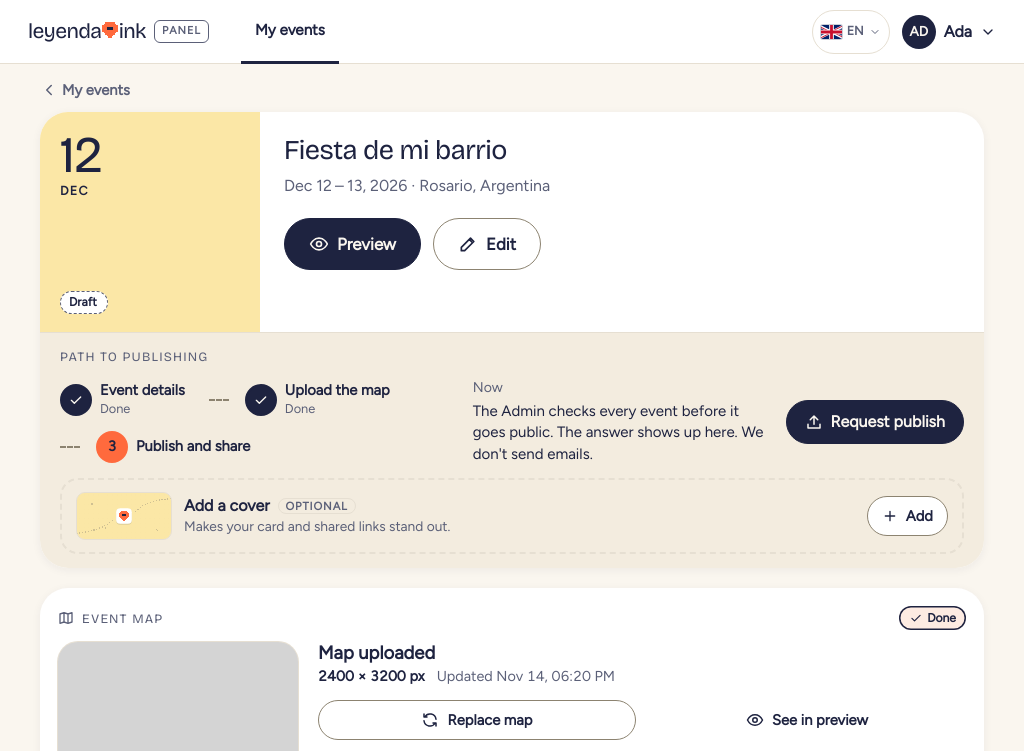
Test case: organizer publish step › requests publish, shows In review and the event can be withdrawn back to Draft
Click the button "Request publish".
click(875, 422)  # box left=786, top=400, right=964, bottom=444
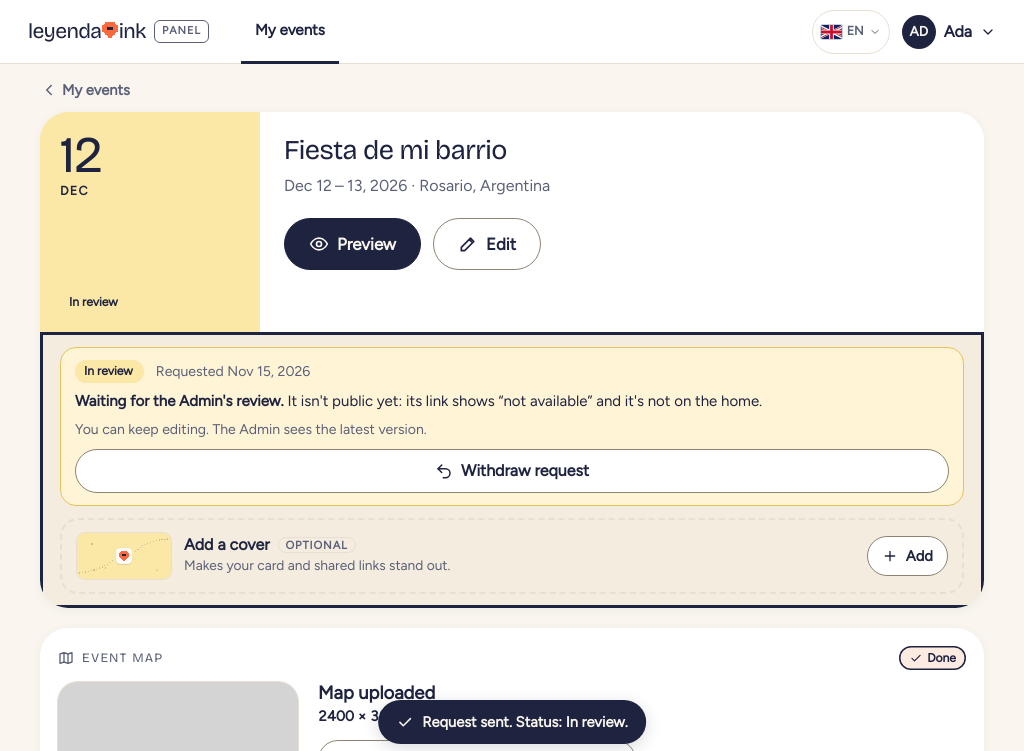
Now the text "Waiting for the Admin's review." is shown, box left=75, top=392, right=284, bottom=410
Click the button "Withdraw request".
click(512, 471)  # box left=75, top=449, right=949, bottom=493
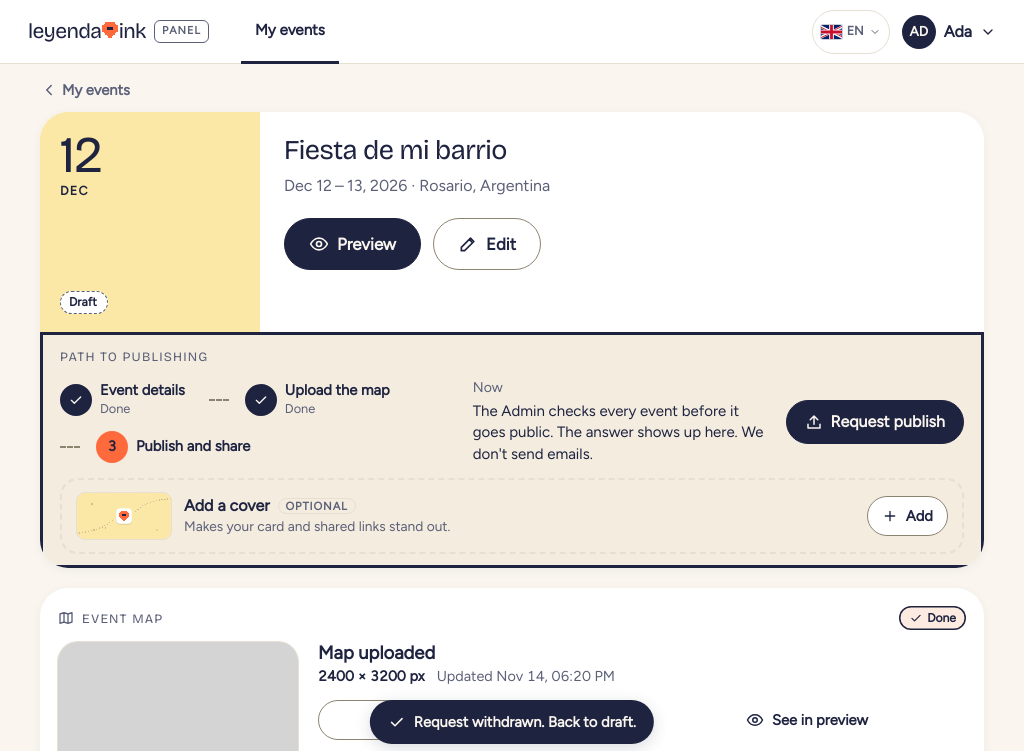
Now the button "Request publish" is shown, box left=786, top=400, right=964, bottom=444
